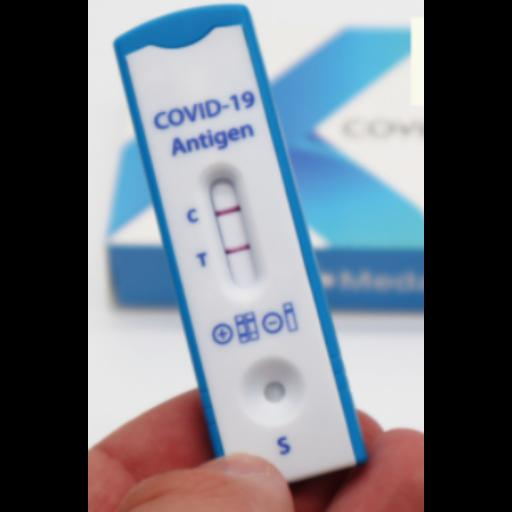Pos: (113, 0, 367, 495)
